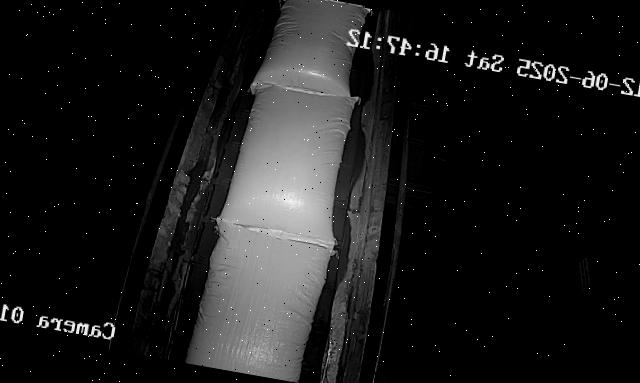bag: (182, 216, 337, 383), (216, 76, 362, 250), (249, 0, 372, 111)
